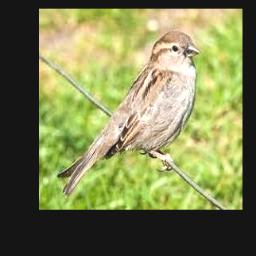Sparrow: (57, 31, 200, 196)
